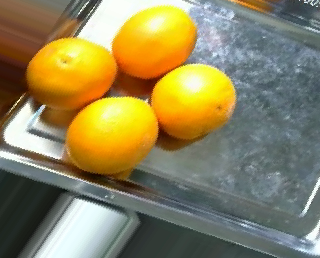Orange: (64, 94, 159, 174), (150, 62, 236, 141), (25, 38, 118, 109), (112, 5, 198, 79)
